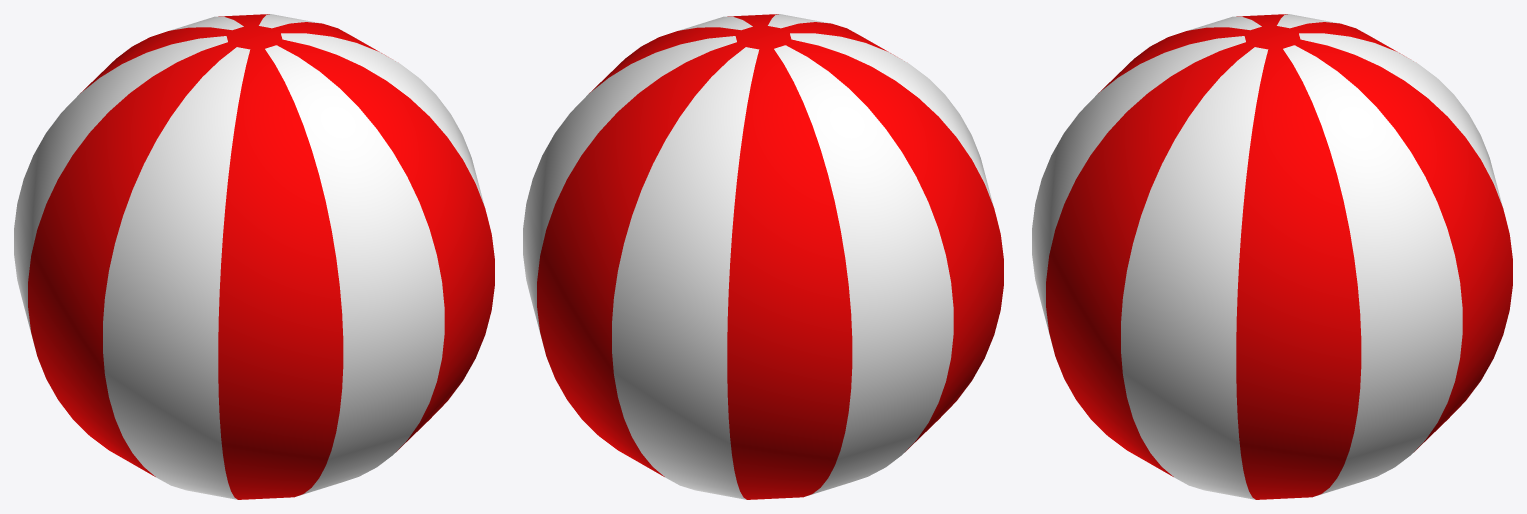
The model's file is Colorful-Balls_2.fbx.
3 renders of one model, left to right at view 1: azimuth 30°, elevation 25°; view 2: azimuth 150°, elevation 25°; view 3: azimuth 270°, elevation 25°, orthographic.
Visible parts, largest first — view 1: Sphere.003; view 2: Sphere.003; view 3: Sphere.003.
Boxes of the visible parts, x1=… form: Sphere.003: x1=14, y1=14, x2=494, y2=499; Sphere.003: x1=523, y1=14, x2=1003, y2=499; Sphere.003: x1=1032, y1=14, x2=1512, y2=499.
Size of the model in its own units: 148 by 149 by 148.
